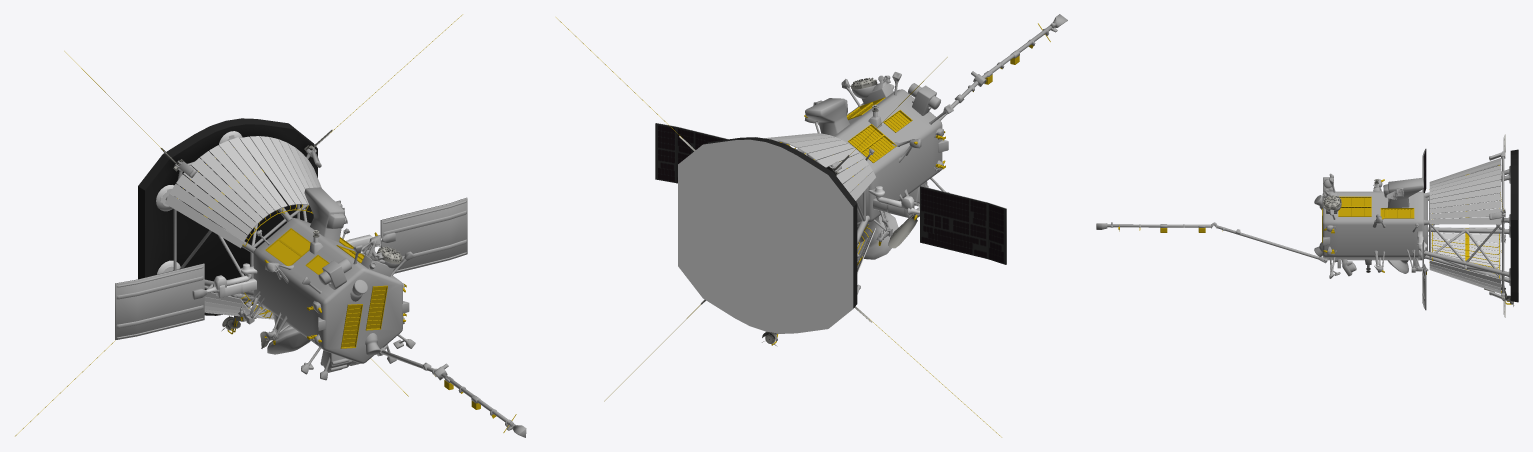
File: uploads_files_3136010_ParkerSolarProbe.obj
3 renders of one model, left to right at view 1: azimuth 30°, elevation 25°; view 2: azimuth 150°, elevation 25°; view 3: azimuth 270°, elevation 25°, orthographic. The views are drawn at different scales.
Parts seen in each view (by area): view 1: BUS_Cylinder.008, Instruments_Cylinder.053, CoolingSystem_Cylinder.088, solarWing_LeftBacking_Cube.064, solarWing_RightBacking_Cube.066, vents_Cube.075, solarArray_arms_Cylinder.128, boom_Cube.025, heatShield_Mounting_Cylinder.072, HGA_Cylinder.056; view 2: Instruments_Cylinder.053, BUS_Cylinder.008, CoolingSystem_Cylinder.088, vents_Cube.075, boom_Cube.025, solarArray_arms_Cylinder.128; view 3: BUS_Cylinder.008, CoolingSystem_Cylinder.088, Instruments_Cylinder.053, vents_Cube.075, boom_Cube.025, CoolingSystem_frame_Mesh.020.
Boxes of the visible parts, left/top/right/bottom form: BUS_Cylinder.008: left=165, top=143, right=415, bottom=380; Instruments_Cylinder.053: left=115, top=118, right=466, bottom=348; CoolingSystem_Cylinder.088: left=165, top=136, right=321, bottom=319; solarWing_LeftBacking_Cube.064: left=115, top=263, right=204, bottom=339; solarWing_RightBacking_Cube.066: left=381, top=198, right=467, bottom=273; vents_Cube.075: left=265, top=228, right=387, bottom=348; solarArray_arms_Cylinder.128: left=192, top=232, right=395, bottom=299; boom_Cube.025: left=377, top=345, right=526, bottom=437; heatShield_Mounting_Cylinder.072: left=156, top=131, right=242, bottom=294; HGA_Cylinder.056: left=267, top=331, right=310, bottom=354; Instruments_Cylinder.053: left=655, top=77, right=1006, bottom=346; BUS_Cylinder.008: left=788, top=72, right=953, bottom=294; CoolingSystem_Cylinder.088: left=764, top=133, right=875, bottom=273; vents_Cube.075: left=846, top=97, right=912, bottom=162; boom_Cube.025: left=939, top=14, right=1067, bottom=120; solarArray_arms_Cylinder.128: left=868, top=186, right=919, bottom=217; BUS_Cylinder.008: left=1314, top=151, right=1509, bottom=300; CoolingSystem_Cylinder.088: left=1429, top=158, right=1501, bottom=293; Instruments_Cylinder.053: left=1323, top=134, right=1518, bottom=317; vents_Cube.075: left=1322, top=196, right=1414, bottom=242; boom_Cube.025: left=1096, top=222, right=1327, bottom=263; CoolingSystem_frame_Mesh.020: left=1429, top=165, right=1511, bottom=304.
Bounding box in the file's own units: 5.75 × 5.26 × 6.61.
